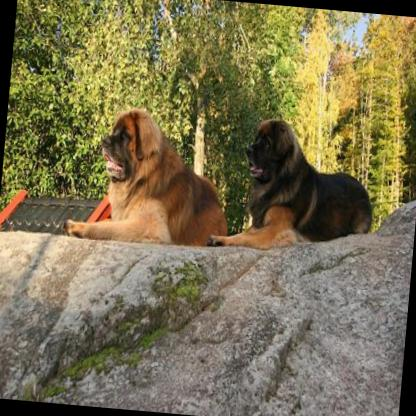Leonberg: (209, 110, 382, 260), (64, 102, 235, 248)
